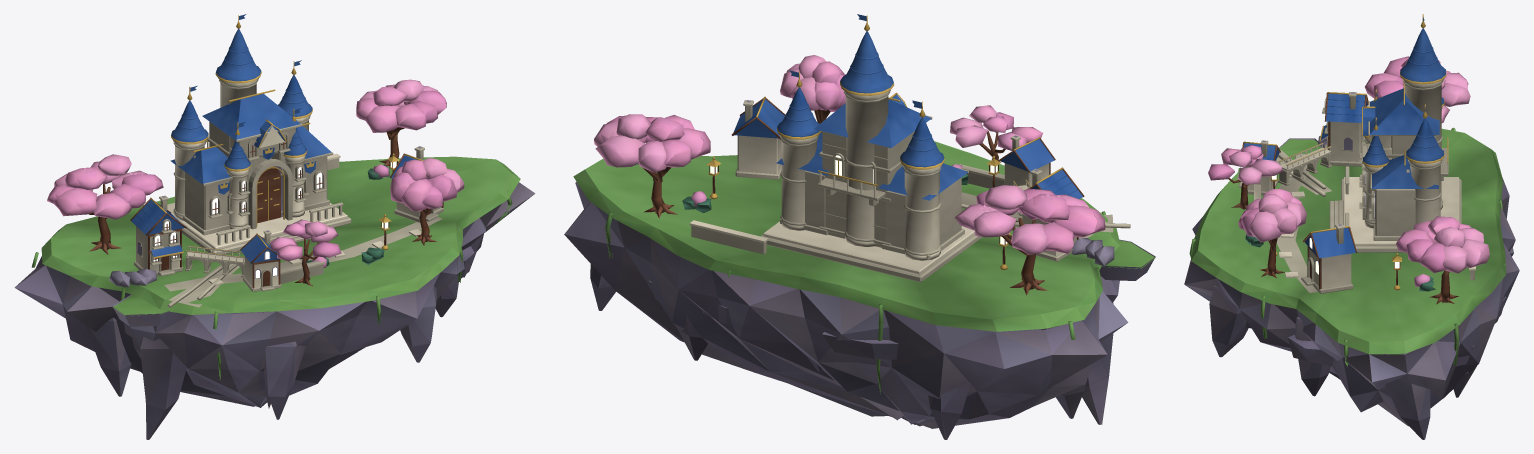
File: royal-island-left-v4-balanced.glb
3 views of the same model, side by side, from view 1: azimuth 30°, elevation 25°; view 2: azimuth 150°, elevation 25°; view 3: azimuth 270°, elevation 25° (orthographic). The views are drawn at different scales.
Parts seen in each view (by area): view 1: royal-island-left-v4; view 2: royal-island-left-v4; view 3: royal-island-left-v4.
Boxes of the visible parts, <box> form: royal-island-left-v4: <box>14,14,535,439</box>; royal-island-left-v4: <box>564,14,1155,439</box>; royal-island-left-v4: <box>1184,14,1519,439</box>.
Bounding box in the file's own units: 20.59 × 14.89 × 12.02.
10 materials, 10 textured.
